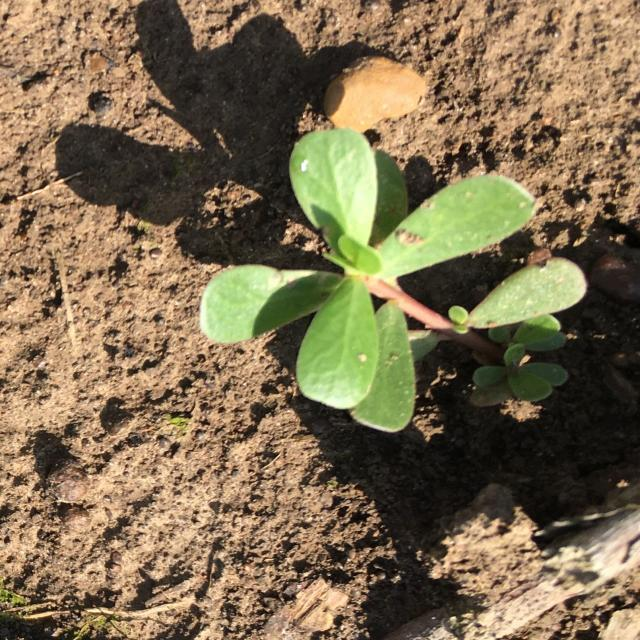Purslane: (200, 129, 587, 432)
